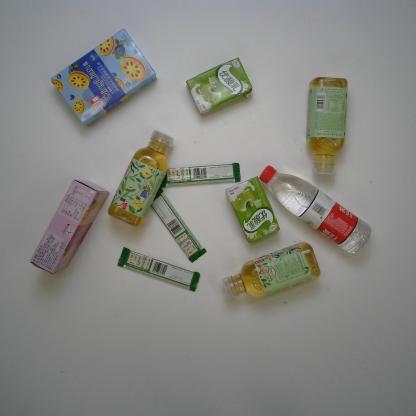Chocolate: (142, 182, 207, 265), (115, 246, 202, 293), (155, 160, 244, 190)
Dessert: (49, 25, 160, 133), (28, 176, 112, 275)
Drink: (256, 163, 374, 257), (105, 126, 176, 228), (220, 239, 321, 302), (302, 76, 349, 179)
Milk: (185, 55, 252, 119), (224, 179, 282, 245)
